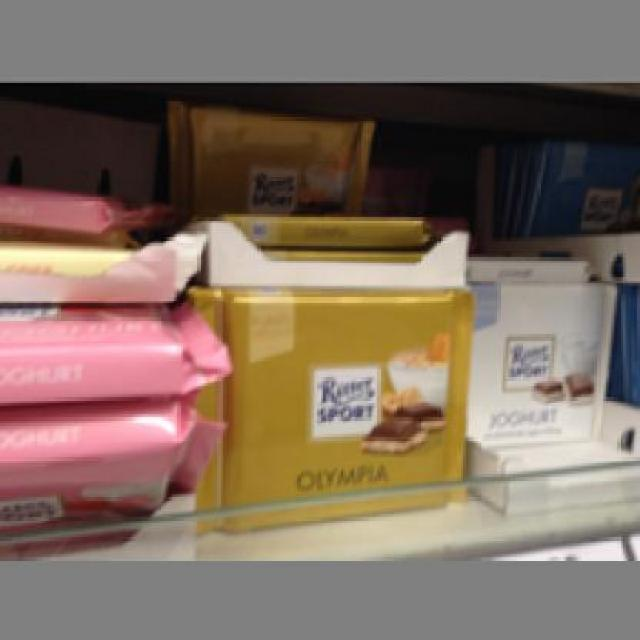Chocolate: (180, 274, 466, 530), (460, 274, 611, 443), (166, 94, 374, 210)
